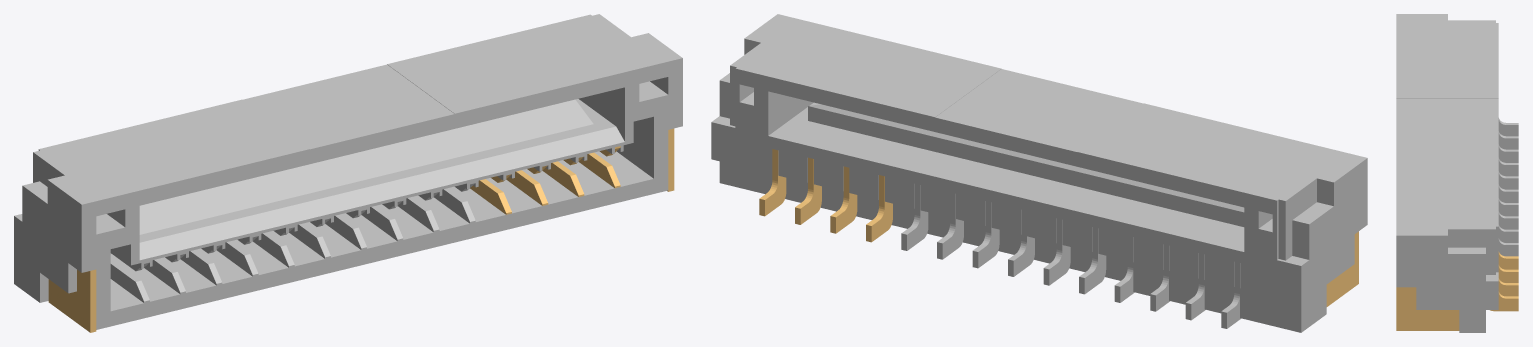
File: SM14B-GHS-TB.obj
3 views of the same model, side by side, from view 1: azimuth 30°, elevation 25°; view 2: azimuth 150°, elevation 25°; view 3: azimuth 270°, elevation 25° (orthographic). The views are drawn at different scales.
Parts seen in each view (by area): view 1: SM14B-GHS-TB; view 2: SM14B-GHS-TB; view 3: SM14B-GHS-TB.
Boxes of the visible parts, <box> form: SM14B-GHS-TB: <box>14,14,682,332</box>; SM14B-GHS-TB: <box>711,14,1367,332</box>; SM14B-GHS-TB: <box>1396,14,1518,332</box>.
Bounding box in the file's own units: 0.0258 × 0.00535 × 0.00604.
